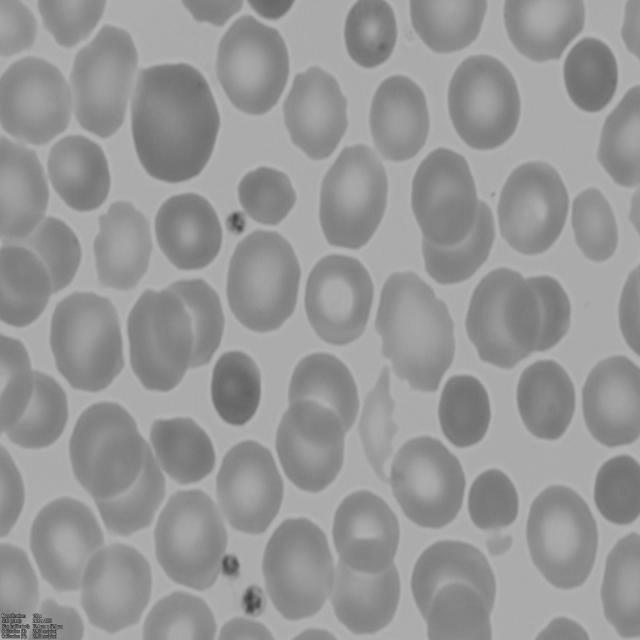RBC: (128, 68, 223, 188), (376, 277, 462, 388), (260, 516, 340, 626), (224, 227, 303, 336), (214, 12, 294, 119), (46, 290, 126, 396), (463, 267, 542, 371), (524, 489, 602, 594), (493, 161, 573, 262), (317, 148, 393, 254), (443, 55, 521, 158), (152, 486, 228, 591), (28, 498, 106, 600), (386, 436, 468, 533), (124, 288, 195, 396), (215, 435, 288, 540), (66, 401, 144, 498), (67, 34, 136, 142), (301, 253, 376, 351), (77, 538, 153, 634), (280, 60, 352, 161), (331, 540, 404, 638), (272, 402, 346, 498), (408, 146, 482, 242), (0, 52, 76, 143), (286, 348, 360, 439), (152, 192, 226, 278), (332, 486, 404, 574), (368, 71, 436, 163), (506, 268, 574, 360), (0, 366, 73, 448), (578, 354, 640, 449), (512, 358, 580, 444), (44, 130, 112, 214), (500, 0, 591, 62), (93, 200, 153, 292), (0, 138, 51, 242), (152, 413, 220, 489), (405, 0, 494, 58), (421, 573, 496, 640), (598, 523, 640, 638), (594, 85, 640, 187), (0, 240, 52, 328), (237, 161, 304, 229), (569, 184, 625, 264), (344, 2, 404, 72), (142, 586, 216, 640), (592, 451, 640, 527), (38, 0, 111, 45), (0, 328, 32, 428), (614, 255, 640, 358), (0, 446, 26, 545), (0, 0, 42, 59), (526, 611, 606, 640), (213, 614, 286, 638)
Spherocyte: (560, 34, 622, 119), (204, 346, 264, 429), (434, 370, 494, 450), (467, 464, 523, 534)
